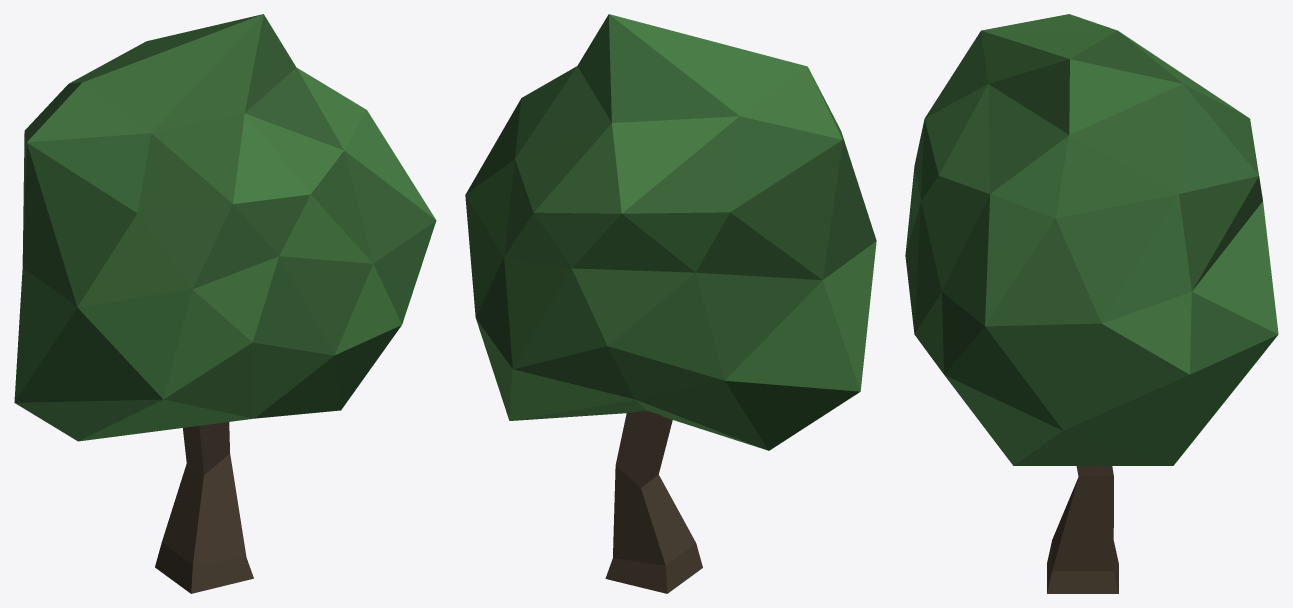
The model's file is Tree_3_Green.fbx.
3 renders of one model, left to right at view 1: azimuth 30°, elevation 25°; view 2: azimuth 150°, elevation 25°; view 3: azimuth 270°, elevation 25°, orthographic.
Visible parts, largest first — view 1: Tree_3_Green_Part_2, Tree_3_Green_Part_3, Tree_3_Green_Part_1; view 2: Tree_3_Green_Part_2, Tree_3_Green_Part_3, Tree_3_Green_Part_1; view 3: Tree_3_Green_Part_2, Tree_3_Green_Part_3, Tree_3_Green_Part_1.
Boxes of the visible parts, bbox=[...] form: Tree_3_Green_Part_2: bbox=[14, 14, 436, 441]; Tree_3_Green_Part_3: bbox=[14, 14, 435, 441]; Tree_3_Green_Part_1: bbox=[155, 422, 253, 593]; Tree_3_Green_Part_2: bbox=[465, 14, 876, 450]; Tree_3_Green_Part_3: bbox=[465, 14, 876, 420]; Tree_3_Green_Part_1: bbox=[605, 410, 702, 593]; Tree_3_Green_Part_2: bbox=[905, 30, 1278, 465]; Tree_3_Green_Part_3: bbox=[905, 14, 1278, 465]; Tree_3_Green_Part_1: bbox=[1047, 466, 1118, 593].
Size of the model in its own units: 433 by 596 by 370.
